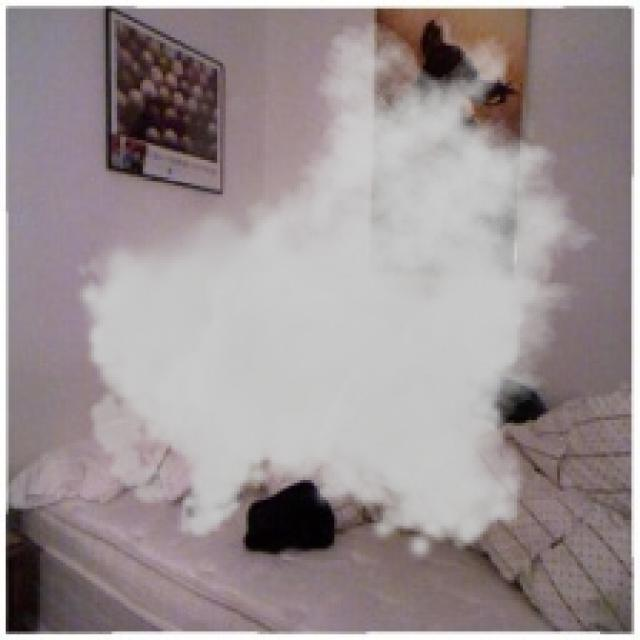Smoke: (74, 20, 617, 563)
